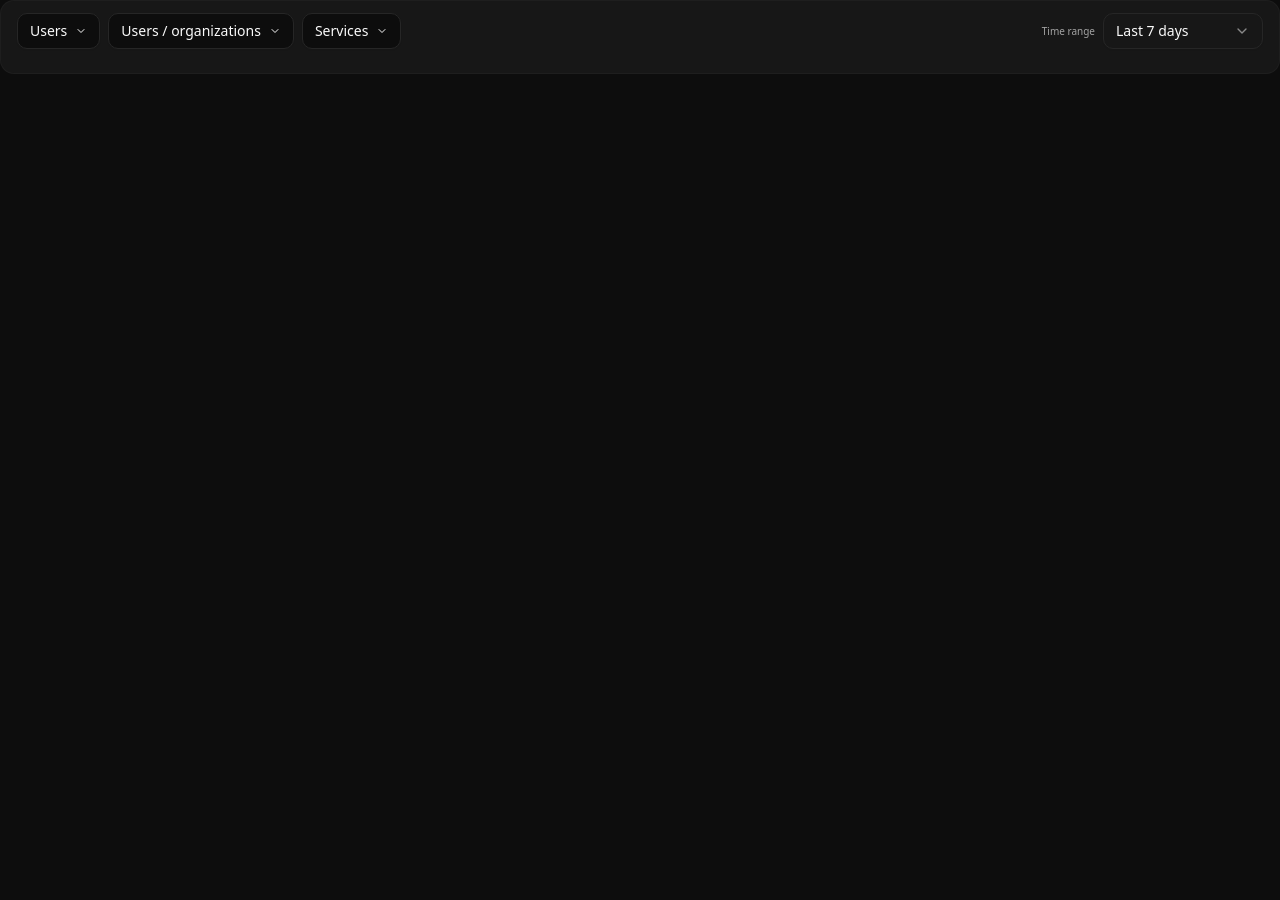
Test: admin usage FilterBar picker › caps a selection at 20 services
Click the button with aria-label "Filter services".
click(352, 31)  # box [302,13,401,49]
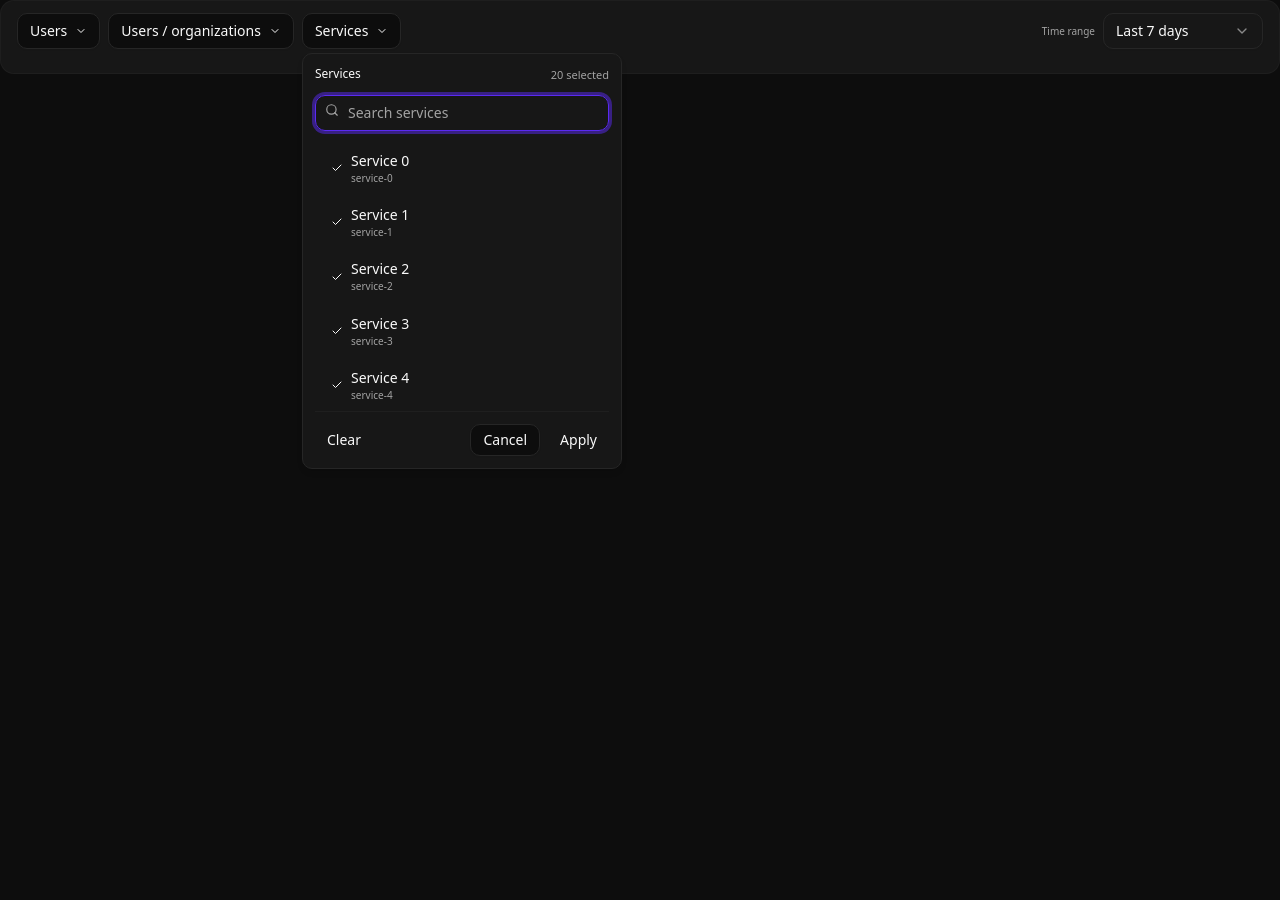
Check: the text "20 selected" is shown, box [551,67,609,82]
Check: the button "Service 0 service-0" is enabled, box [315,143,609,193]
